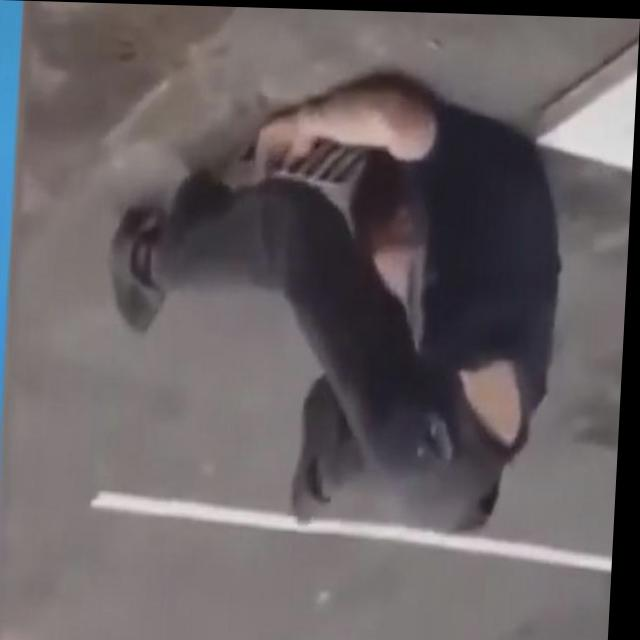fall: (94, 72, 582, 541)
